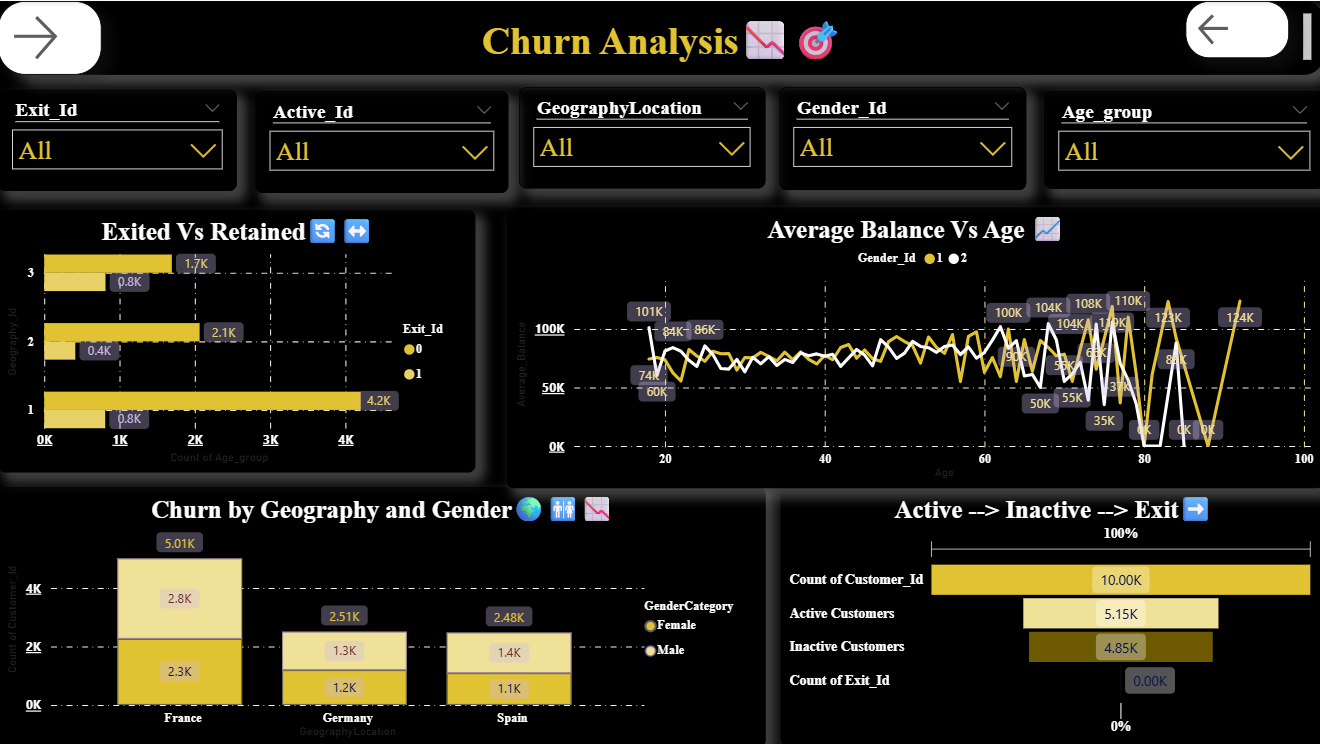

The dashboard page shown, as its layout file describes it:
{"tool":"powerbi","page":{"name":"Churn Analysis","canvas":[1280,720],"ordinal":2},"visuals":[{"type":"textbox","box":[13.7,0,1266.6,71.4],"z":0},{"type":"clusteredBarChart","title":"Exited Vs Retained🔄↔️","fields":{"Category":["Geography.Geography_Id"],"Series":["Bank_Churn.Exit_Id"],"Y":["CountNonNull(Bank_Churn.Age_group)"]},"box":[0,201.7,461.1,253.9],"z":1000},{"type":"columnChart","title":"Churn by Geography and Gender🌍🚻📉","fields":{"Category":["Geography.GeographyLocation"],"Y":["CountNonNull(Bank_Churn.Customer_Id)"],"Series":["Gender.GenderCategory"]},"box":[0,469.3,741,251.1],"z":2000},{"type":"funnel","title":"Active --> Inactive --> Exit➡️","fields":{"Y":["CountNonNull(Bank_Churn.Customer_Id)","Bank_Churn.Active Customers","Bank_Churn.Inactive Customers","CountNonNull(ExitCustomer.Exit_Id)"]},"box":[754.7,469.3,525.6,249.7],"z":3000},{"type":"lineChart","title":"Average Balance Vs Age 📈","fields":{"Category":["Bank_Churn.Age"],"Y":["Bank_Churn.Average_Balance"],"Series":["Gender.Gender_Id"]},"box":[476.4,184.7,787.5,270.8],"z":4000},{"type":"slicer","fields":{"Values":["ExitCustomer.Exit_Id"]},"box":[0,85.1,230.5,97.4],"z":5000},{"type":"slicer","fields":{"Values":["Bank_Churn.Active_Id"]},"box":[248.4,86.4,244.3,98.8],"z":6000},{"type":"slicer","fields":{"Values":["Geography.GeographyLocation"]},"box":[503.6,83.7,237.4,97.4],"z":7000},{"type":"slicer","fields":{"Values":["Gender.Gender_Id"]},"box":[754.5,83.7,238.5,99],"z":8000},{"type":"slicer","fields":{"Values":["Bank_Churn.Age_group"]},"box":[1010,86.4,270.3,94.7],"z":9000},{"type":"actionButton","box":[0,0,100.2,71.4],"z":10000},{"type":"actionButton","box":[1145.8,0,100.2,54.9],"z":11000}]}

Visuals, with their boxes in screenshot pixels (x1, y1, x2, y2), scaled from the page's 1280x720 canvas onto the 1320x744 screenshot:
textbox: l=14, t=0, r=1319, b=74
"Exited Vs Retained🔄↔️" clusteredBarChart: l=0, t=208, r=476, b=471
"Churn by Geography and Gender🌍🚻📉" columnChart: l=0, t=485, r=764, b=743
"Active --> Inactive --> Exit➡️" funnel: l=778, t=485, r=1319, b=743
"Average Balance Vs Age 📈" lineChart: l=491, t=191, r=1303, b=471
slicer - ExitCustomer.Exit_Id: l=0, t=88, r=238, b=189
slicer - Bank_Churn.Active_Id: l=256, t=89, r=508, b=191
slicer - Geography.GeographyLocation: l=519, t=86, r=764, b=187
slicer - Gender.Gender_Id: l=778, t=86, r=1024, b=189
slicer - Bank_Churn.Age_group: l=1042, t=89, r=1319, b=187
actionButton: l=0, t=0, r=103, b=74
actionButton: l=1182, t=0, r=1285, b=57
